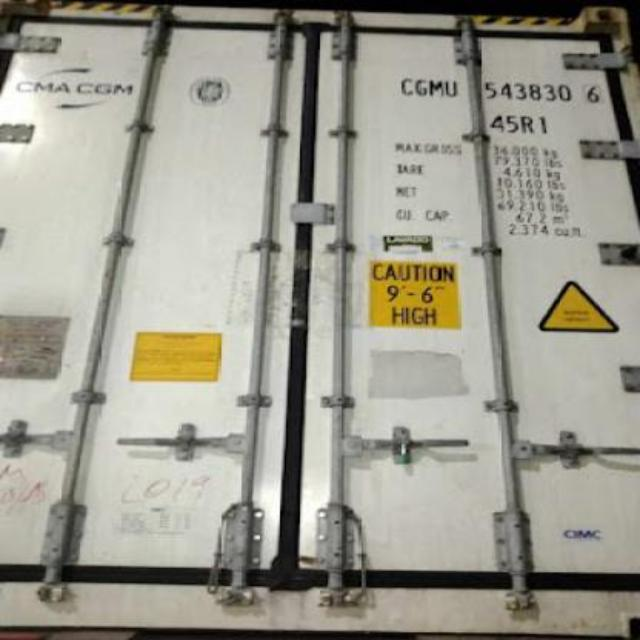0: (558, 78, 574, 108)
3: (512, 78, 528, 104), (544, 76, 556, 104)
4: (500, 74, 512, 104)
5: (482, 73, 496, 103)
6: (582, 76, 602, 112)
8: (528, 80, 540, 104)
C: (394, 70, 416, 98)
G: (414, 72, 428, 98)
M: (428, 75, 444, 105)
U: (444, 74, 462, 100)
